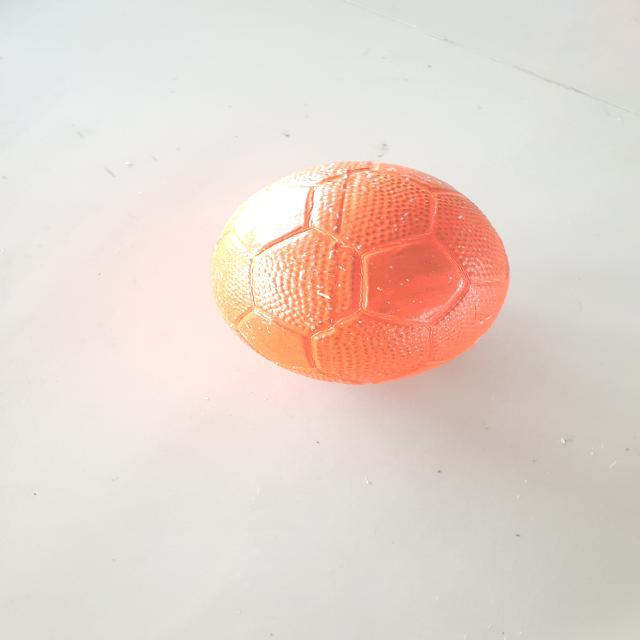bola: (208, 153, 525, 398)
